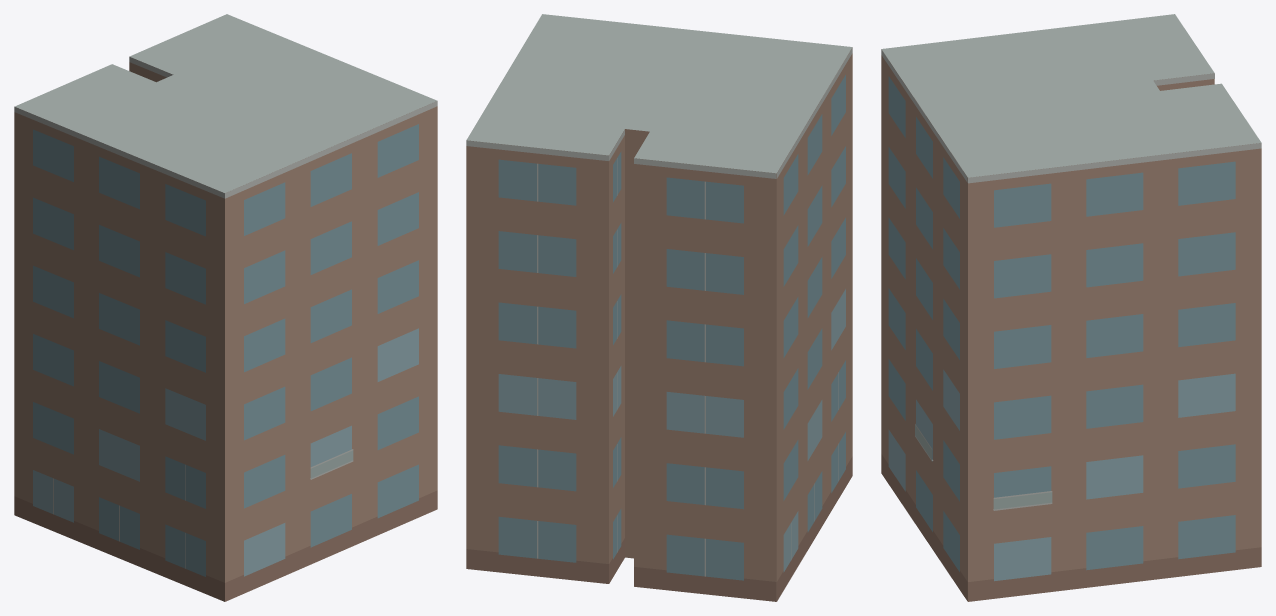
The model's file is survey-upis-32750751.glb.
3 renders of one model, left to right at view 1: azimuth 30°, elevation 25°; view 2: azimuth 150°, elevation 25°; view 3: azimuth 270°, elevation 25°, orthographic. The views are drawn at different scales.
Visible parts, largest first — view 1: survey-upis-32750751.tmp; view 2: survey-upis-32750751.tmp; view 3: survey-upis-32750751.tmp.
Boxes of the visible parts, x1=… form: survey-upis-32750751.tmp: x1=14, y1=14, x2=437, y2=601; survey-upis-32750751.tmp: x1=466, y1=14, x2=852, y2=601; survey-upis-32750751.tmp: x1=881, y1=14, x2=1261, y2=601.
Size of the model in its own units: 15.17 by 18.3 by 14.88.
